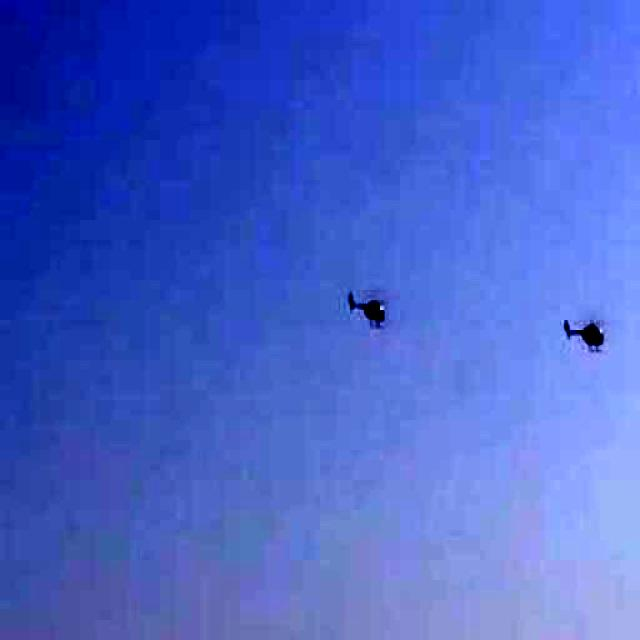drone: (335, 280, 401, 332), (556, 305, 614, 361)
